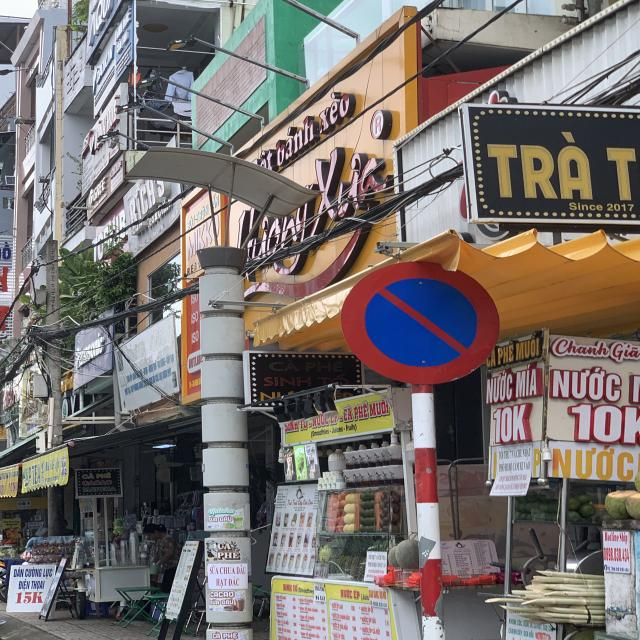Cam_Dau_Xe: (340, 260, 502, 384)
